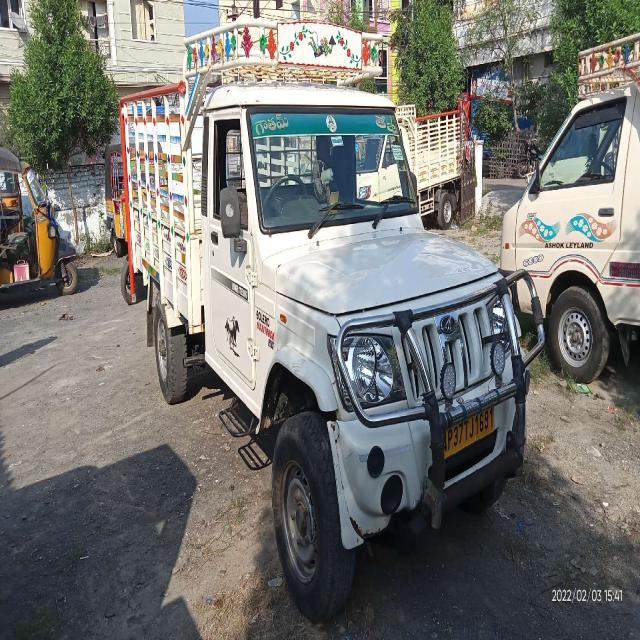light_vehicle: (118, 78, 532, 496)
